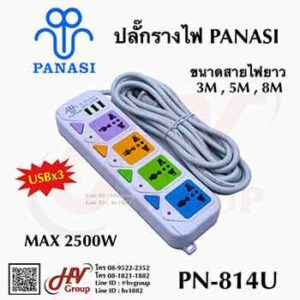Three_eye_plug: (43, 83, 224, 259)
